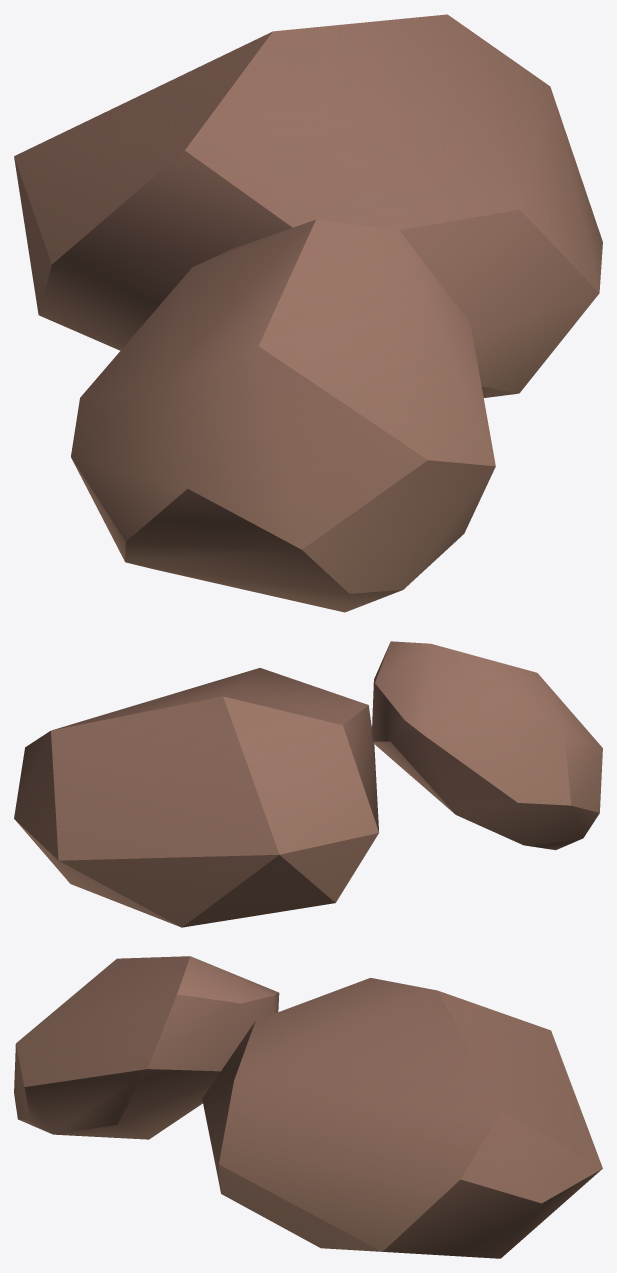
The model's file is Stone02.fbx.
3 views of the same model, one above another, from view 1: azimuth 30°, elevation 25°; view 2: azimuth 150°, elevation 25°; view 3: azimuth 270°, elevation 25° (orthographic). The views are drawn at different scales.
Parts seen in each view (by area): view 1: Stone02; view 2: Stone02; view 3: Stone02.
Part boxes in pixels (left/top/right/bottom): Stone02: left=14, top=14, right=602, bottom=612; Stone02: left=14, top=641, right=602, bottom=927; Stone02: left=14, top=956, right=602, bottom=1258.
Bounding box in the file's own units: 235 × 114 × 268.
